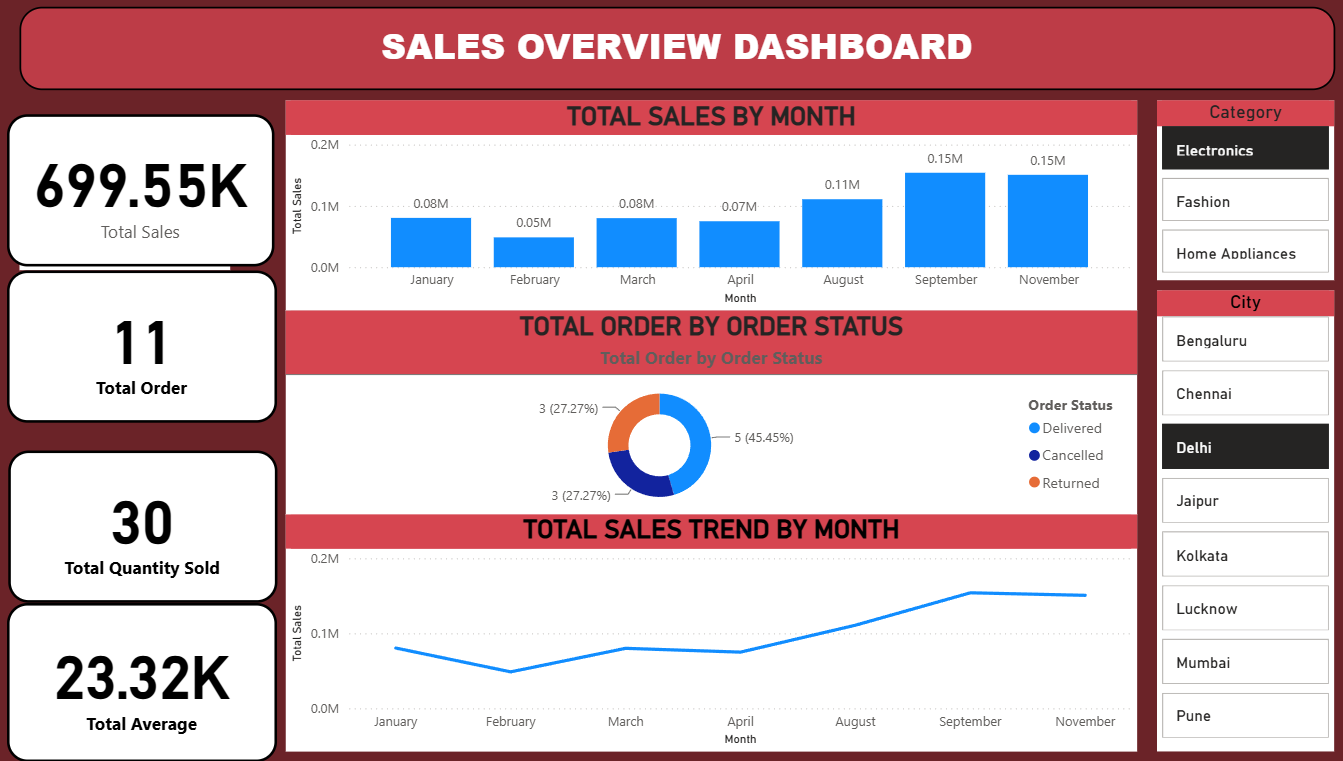

What the dashboard file says about the page in this screenshot:
{"tool":"powerbi","page":{"name":"Page 3","canvas":[1280,720],"ordinal":2},"visuals":[{"type":"textbox","box":[25.5,17.8,1223.9,77.8],"z":0},{"type":"card","fields":{"Values":["EcommerceData.Total Sales"]},"box":[25.5,121.1,196.3,141.5],"z":1000},{"type":"card","fields":{"Values":["EcommerceData.Total Sales"]},"box":[14,117.4,248.8,141.9],"z":2000},{"type":"card","fields":{"Values":["EcommerceData.Total Order"]},"box":[14,262.8,251.2,141.9],"z":3000},{"type":"card","fields":{"Values":["EcommerceData.Total Quantity Sold"]},"box":[15.1,430.2,250,141.9],"z":4000},{"type":"card","fields":{"Values":["EcommerceData.Total Average"]},"box":[14,572.1,251.2,147.7],"z":5000},{"type":"lineChart","title":"TOTAL SALES TREND BY MONTH","fields":{"Category":["EcommerceData.Order Date.Variation.Date Hierarchy.Month"],"Y":["EcommerceData.Total Sales"]},"box":[272.8,489.6,791.7,220.6],"z":6000},{"type":"donutChart","title":"TOTAL ORDER BY ORDER STATUS","fields":{"Category":["EcommerceData.Order Status"],"Y":["EcommerceData.Total Order"]},"box":[272.8,299.6,791.7,190],"z":7000},{"type":"clusteredColumnChart","title":"TOTAL SALES BY MONTH","fields":{"Category":["EcommerceData.Order Date.Variation.Date Hierarchy.Month"],"Y":["EcommerceData.Total Sales"]},"box":[272.8,104.5,791.7,195.1],"z":8000},{"type":"advancedSlicerVisual","fields":{"Values":["EcommerceData.Category"]},"box":[1083.7,104.7,165.1,167.4],"z":9000},{"type":"advancedSlicerVisual","fields":{"Values":["EcommerceData.City"]},"box":[1083.7,281.4,165.1,429.1],"z":10000}]}

Visuals, with their boxes in screenshot pixels (x1, y1, x2, y2), scaled from the page's 1280x720 canvas onto the 1343x761 screenshot:
textbox: locate(27, 19, 1311, 101)
card - EcommerceData.Total Sales: locate(27, 128, 233, 278)
card - EcommerceData.Total Sales: locate(15, 124, 276, 274)
card - EcommerceData.Total Order: locate(15, 278, 278, 428)
card - EcommerceData.Total Quantity Sold: locate(16, 455, 278, 605)
card - EcommerceData.Total Average: locate(15, 605, 278, 760)
"TOTAL SALES TREND BY MONTH" lineChart: locate(286, 517, 1117, 751)
"TOTAL ORDER BY ORDER STATUS" donutChart: locate(286, 317, 1117, 517)
"TOTAL SALES BY MONTH" clusteredColumnChart: locate(286, 110, 1117, 317)
advancedSlicerVisual - EcommerceData.Category: locate(1137, 111, 1310, 288)
advancedSlicerVisual - EcommerceData.City: locate(1137, 297, 1310, 751)
